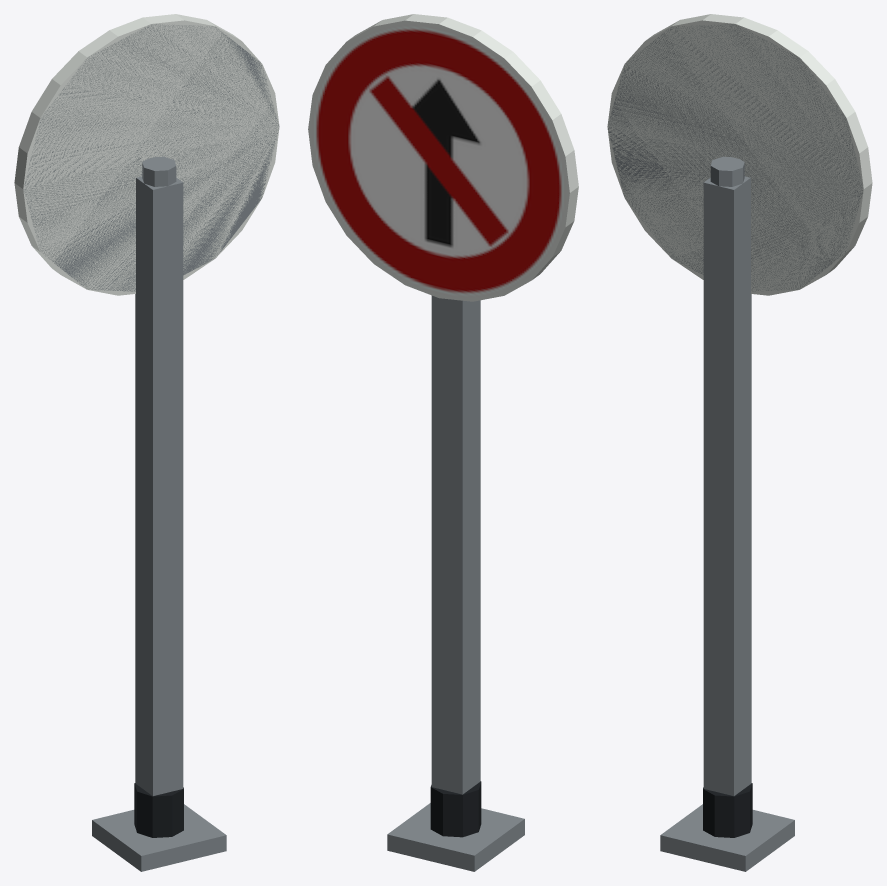
The model's file is no-straight-ahead-sign.glb.
3 views of the same model, side by side, from view 1: azimuth 30°, elevation 25°; view 2: azimuth 150°, elevation 25°; view 3: azimuth 330°, elevation 25° (orthographic). The views are drawn at different scales.
Visible parts, largest first — view 1: no-straight-ahead-sign (×2); view 2: no-straight-ahead-sign (×2); view 3: no-straight-ahead-sign (×2).
Part boxes in pixels (x1=…): no-straight-ahead-sign (×2): x1=14, y1=14, x2=279, y2=871; no-straight-ahead-sign (×2): x1=308, y1=14, x2=578, y2=871; no-straight-ahead-sign (×2): x1=607, y1=14, x2=872, y2=871.
Size of the model in its own units: 2.35 by 7.14 by 0.784.
Materials: 4 (1 with a texture image).
